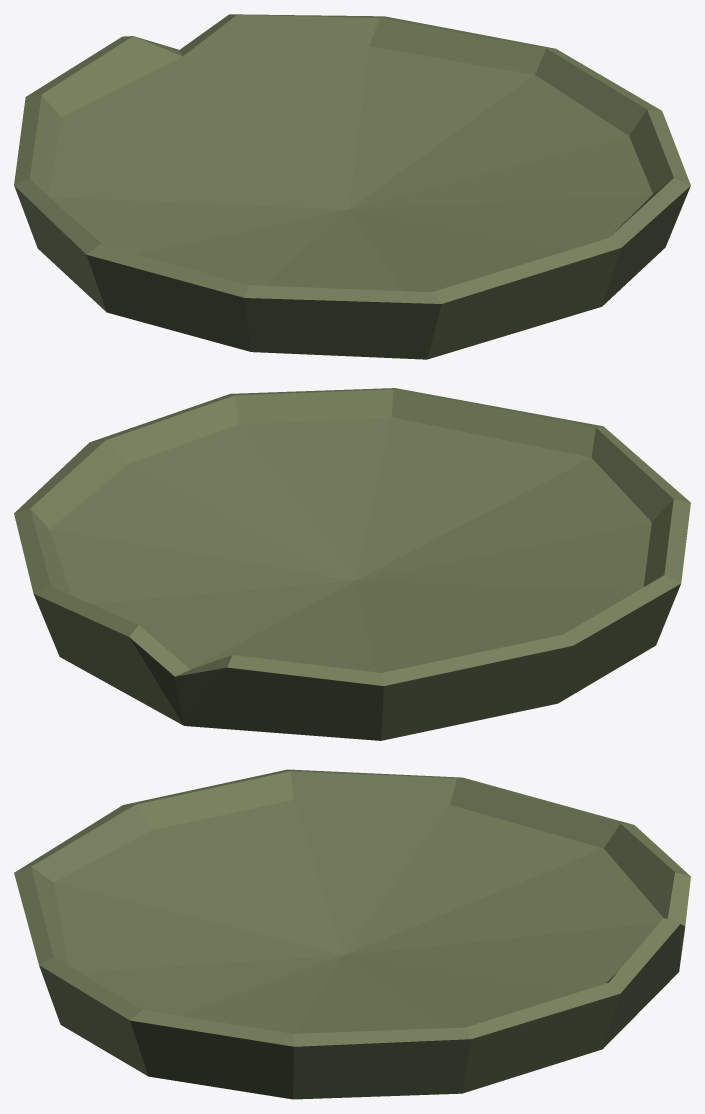
File: SM_Plant_Lillypad_Large_03.glb
3 views of the same model, one above another, from view 1: azimuth 30°, elevation 25°; view 2: azimuth 150°, elevation 25°; view 3: azimuth 270°, elevation 25° (orthographic). The views are drawn at different scales.
Visible parts, largest first — view 1: SM_Plant_Lillypad_Large_03; view 2: SM_Plant_Lillypad_Large_03; view 3: SM_Plant_Lillypad_Large_03.
Boxes of the visible parts, x1,y1,x2,y2 form: SM_Plant_Lillypad_Large_03: (14, 14, 690, 359); SM_Plant_Lillypad_Large_03: (14, 388, 690, 740); SM_Plant_Lillypad_Large_03: (14, 769, 690, 1099).
Size of the model in its own units: 0.7471 by 0.0997 by 0.7707.
Materials: 1 (1 with a texture image).
